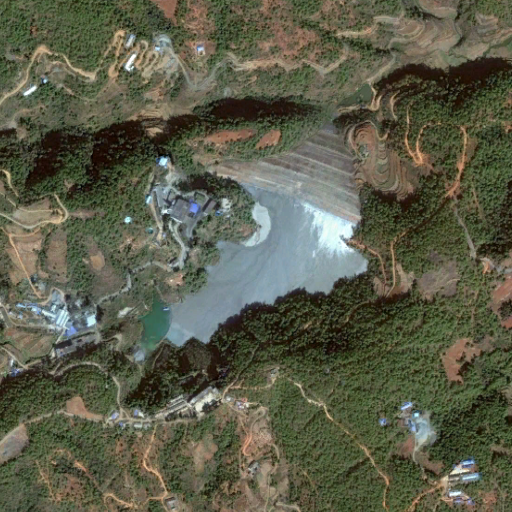tp: (133, 126, 372, 358)
